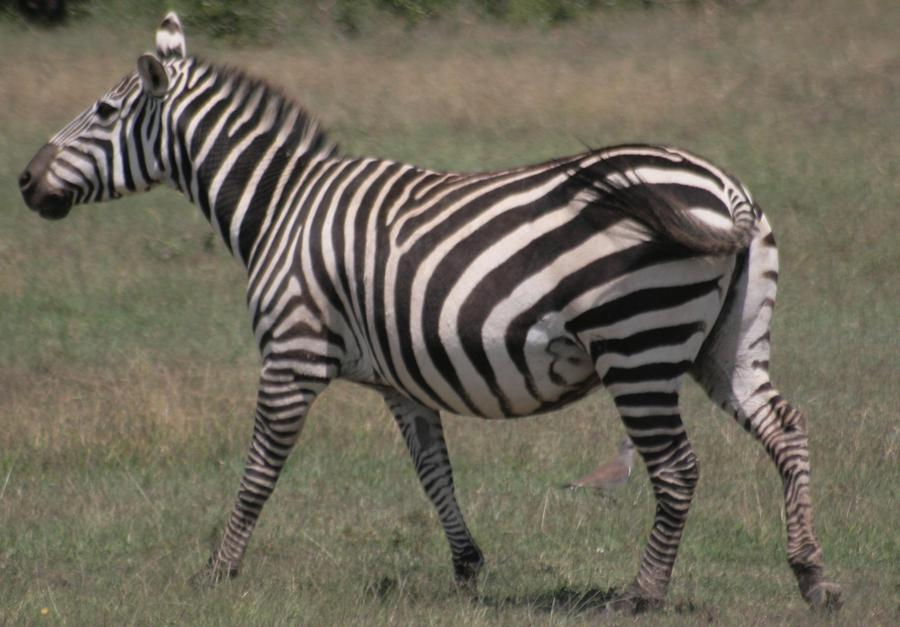zebra_plains: (230, 136, 708, 412)
